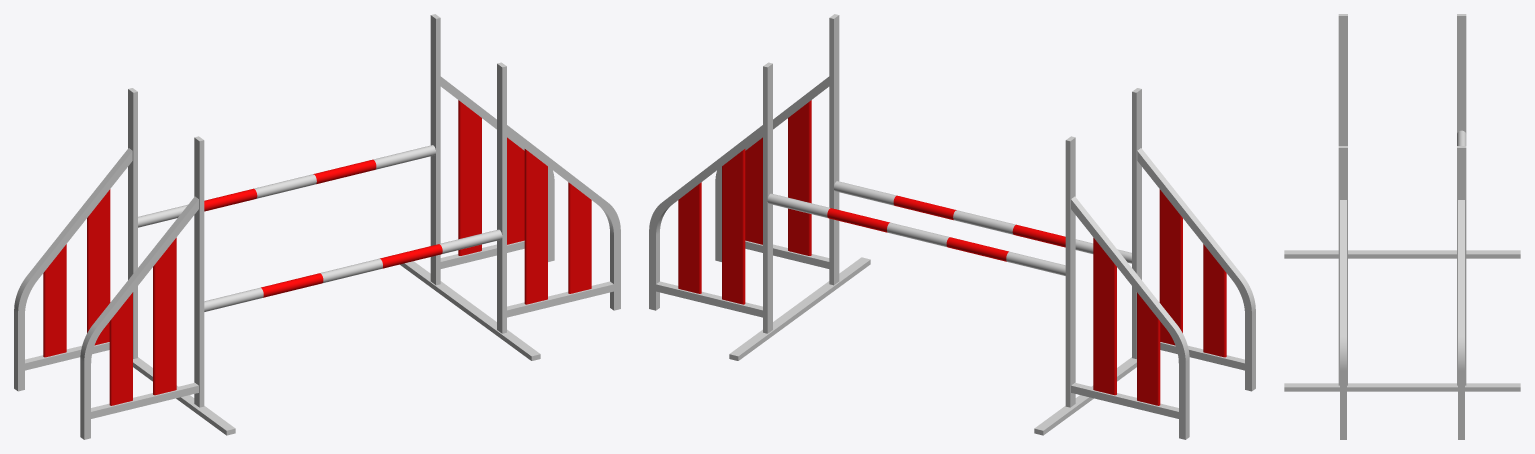
Rendered from jump_double.fbx.
3 renders of one model, left to right at view 1: azimuth 30°, elevation 25°; view 2: azimuth 150°, elevation 25°; view 3: azimuth 270°, elevation 25°, orthographic. The views are drawn at different scales.
Parts seen in each view (by area): view 1: Part 1.011, Part 1.005, Part 1.013, Part 1.002, Part 1.010, Part 1.007, Part 1.003, Part 1.006, Part 1.004, Part 1.009, Part 1.001, Part 1 (+1 smaller); view 2: Part 1.013, Part 1.002, Part 1.011, Part 1.005, Part 1.001, Part 1.009, Part 1.006, Part 1.012, Part 1.004, Part 1.007, Part 1.010, Part 1.008 (+1 smaller); view 3: Part 1.002, Part 1.005, Part 1.011, Part 1.013.
Boxes of the visible parts, box(x1,y1,x2,y2) form: Part 1.011: box(80, 136, 235, 439); Part 1.005: box(465, 62, 620, 360); Part 1.013: box(14, 88, 152, 391); Part 1.002: box(400, 14, 554, 312); Part 1.010: box(313, 159, 376, 184); Part 1.007: box(439, 229, 502, 253); Part 1.003: box(261, 273, 323, 297); Part 1.006: box(320, 258, 382, 282); Part 1.004: box(254, 174, 316, 198); Part 1.009: box(373, 145, 435, 169); Part 1.001: box(380, 244, 442, 268); Part 1: box(204, 287, 263, 311); Part 1.013: box(1034, 136, 1189, 439); Part 1.002: box(649, 62, 804, 360); Part 1.011: box(1117, 88, 1255, 391); Part 1.005: box(715, 14, 870, 312); Part 1.001: box(893, 195, 956, 220); Part 1.009: box(767, 193, 830, 217); Part 1.006: box(953, 210, 1015, 234); Part 1.012: box(946, 237, 1008, 261); Part 1.004: box(887, 222, 949, 246); Part 1.007: box(834, 181, 896, 205); Part 1.010: box(827, 208, 889, 232); Part 1.008: box(1006, 251, 1065, 275); Part 1.002: box(1402, 146, 1520, 439); Part 1.005: box(1284, 146, 1402, 439); Part 1.011: box(1284, 14, 1402, 258); Part 1.013: box(1402, 14, 1520, 258).
Bounding box in the file's own units: 234 × 113 × 100.
